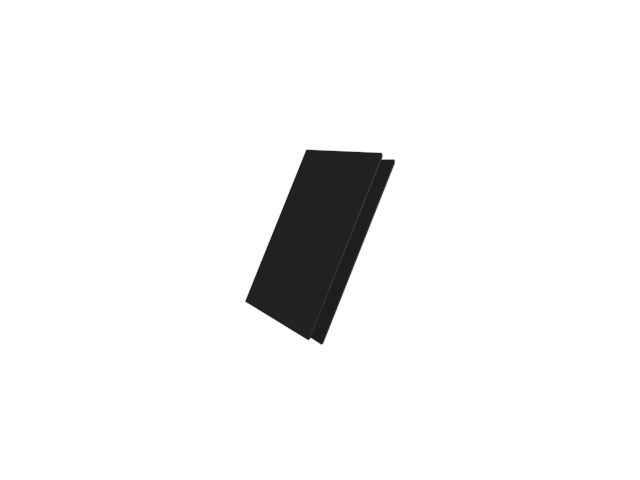ring_binder: (241, 145, 400, 352)
